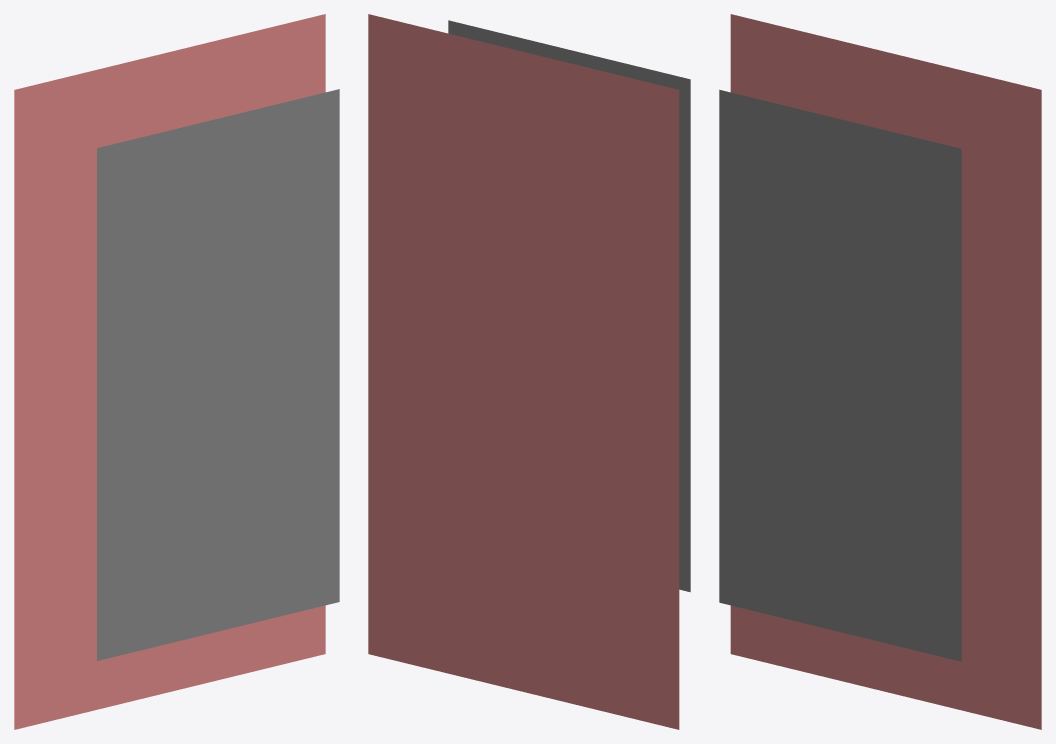
File: FX_E_S__Default_Flame01.gltf
3 views of the same model, side by side, from view 1: azimuth 30°, elevation 25°; view 2: azimuth 150°, elevation 25°; view 3: azimuth 330°, elevation 25° (orthographic).
Parts seen in each view (by area): view 1: Default_Flame01; view 2: Default_Flame01; view 3: Default_Flame01.
Part boxes in pixels (x1=…): Default_Flame01: x1=14, y1=14, x2=339, y2=729; Default_Flame01: x1=368, y1=14, x2=690, y2=729; Default_Flame01: x1=719, y1=14, x2=1041, y2=729.
Size of the model in its own units: 0.7125 by 1.4 by 0.1865.
